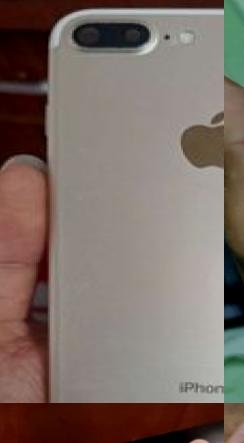scratch: (174, 435, 224, 443)
